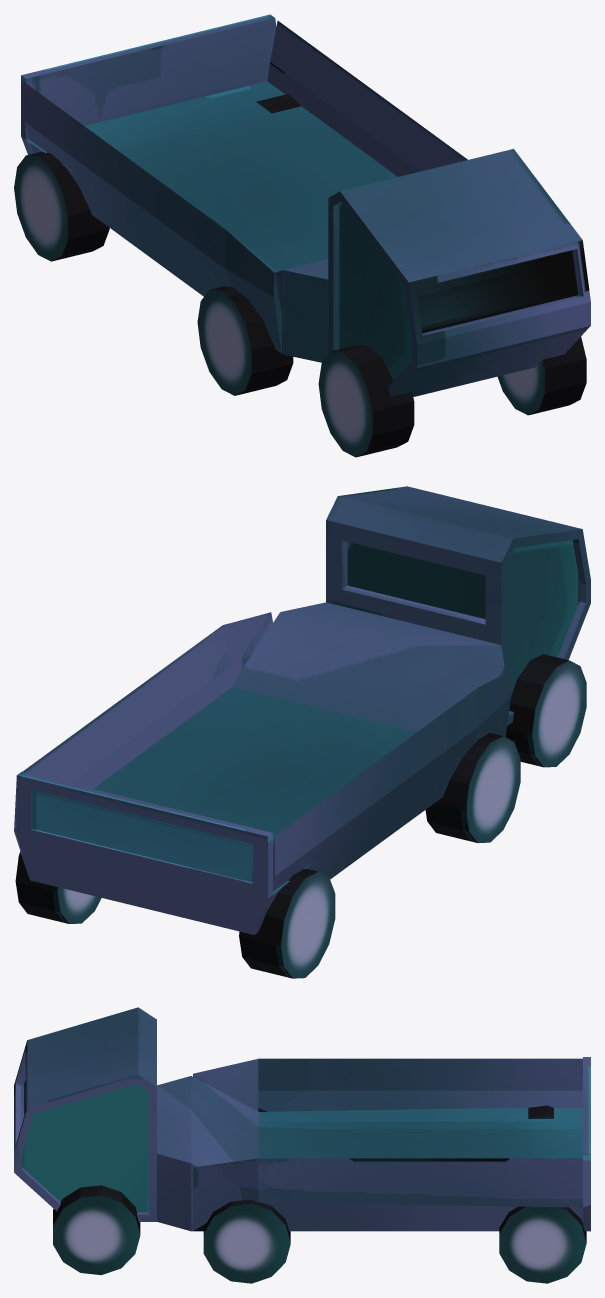
File: truck.glb
3 views of the same model, one above another, from view 1: azimuth 30°, elevation 25°; view 2: azimuth 150°, elevation 25°; view 3: azimuth 270°, elevation 25° (orthographic). The views are drawn at different scales.
Visible parts, largest first — view 1: Cube, Cylinder.011, Cylinder.009, Cylinder.010, Cylinder.012; view 2: Cube, Cylinder.010, Cylinder.011, Cylinder.009, Cylinder.013; view 3: Cube, Cylinder.012, Cylinder.014, Cylinder.013.
Boxes of the visible parts, x1,y1,x2,y2 form: Cube: (21,14,590,396); Cylinder.011: (318,345,414,457); Cylinder.009: (197,286,293,395); Cylinder.010: (14,152,109,261); Cylinder.012: (497,336,586,415); Cube: (14,486,590,934); Cylinder.010: (239,868,335,978); Cylinder.011: (505,654,586,767); Cylinder.009: (425,733,520,843); Cylinder.013: (15,851,101,923); Cube: (14,1007,590,1231); Cylinder.012: (53,1185,140,1275); Cylinder.014: (203,1200,290,1283); Cylinder.013: (499,1206,586,1283).
Size of the model in its own units: 6.61 by 5.63 by 15.36.
Materials: 1 (1 with a texture image).
